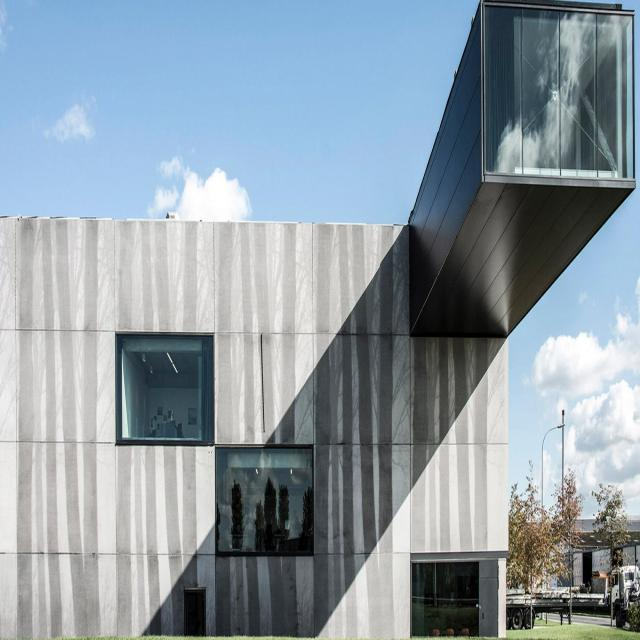door: (480, 576, 498, 639)
window: (484, 5, 634, 179), (117, 332, 215, 446), (216, 449, 314, 551), (410, 558, 480, 638)
